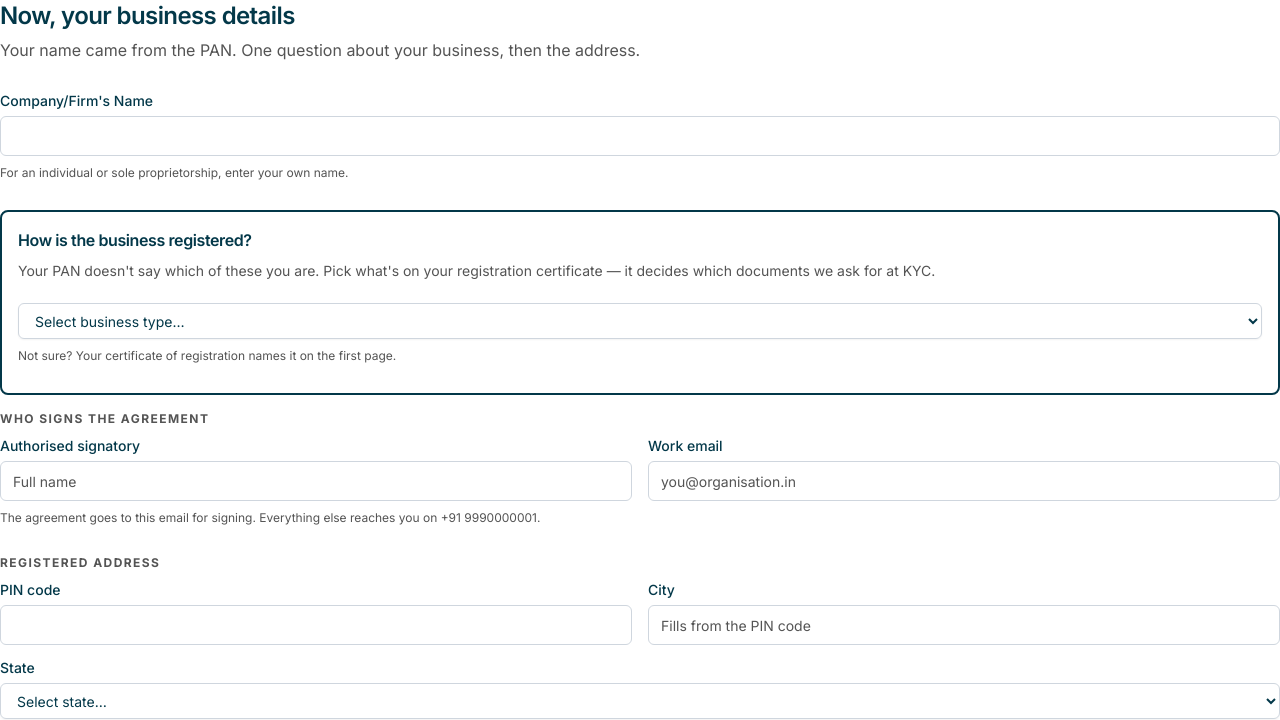
Scenario: BusinessStep › shows a field error on blur, not while typing
Type "5600ab" into the field labelled "PIN code".
click(316, 625); type("5600ab")  # box [0,605,632,645]
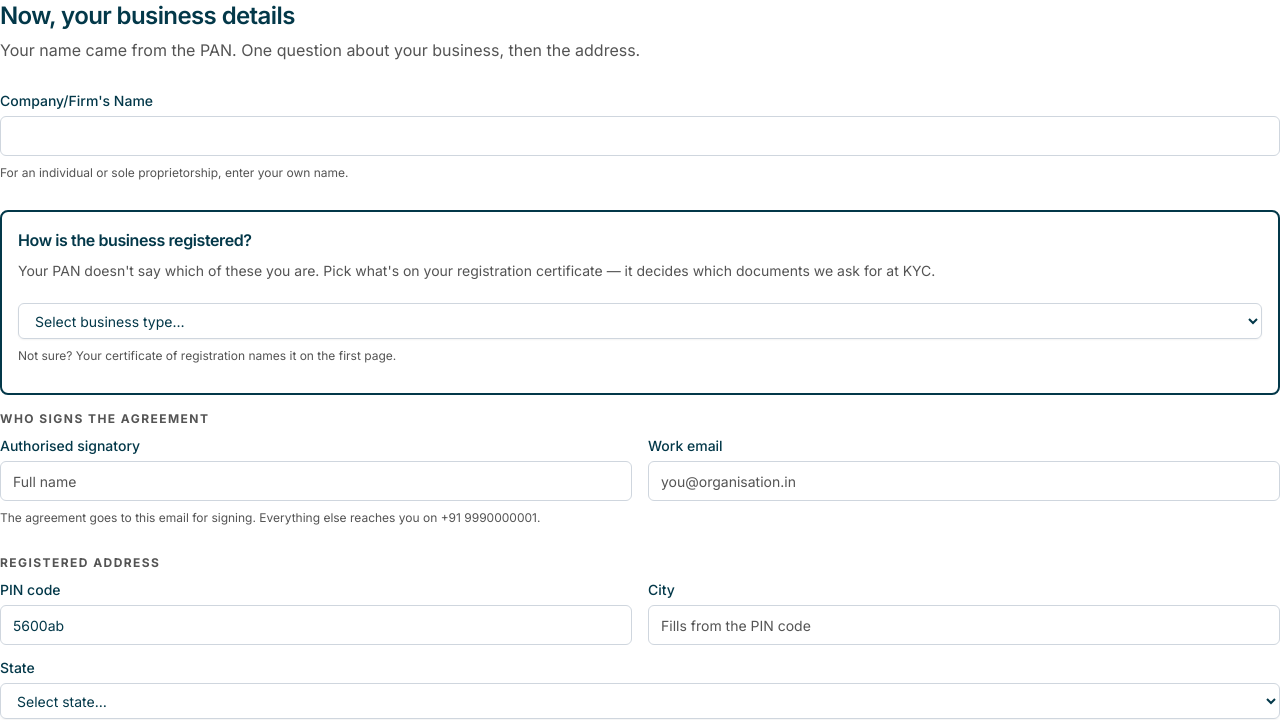
Expected: the text "valid 6-digit PIN code" is not shown
Leave the field labelled "PIN code", box [0,605,632,645]
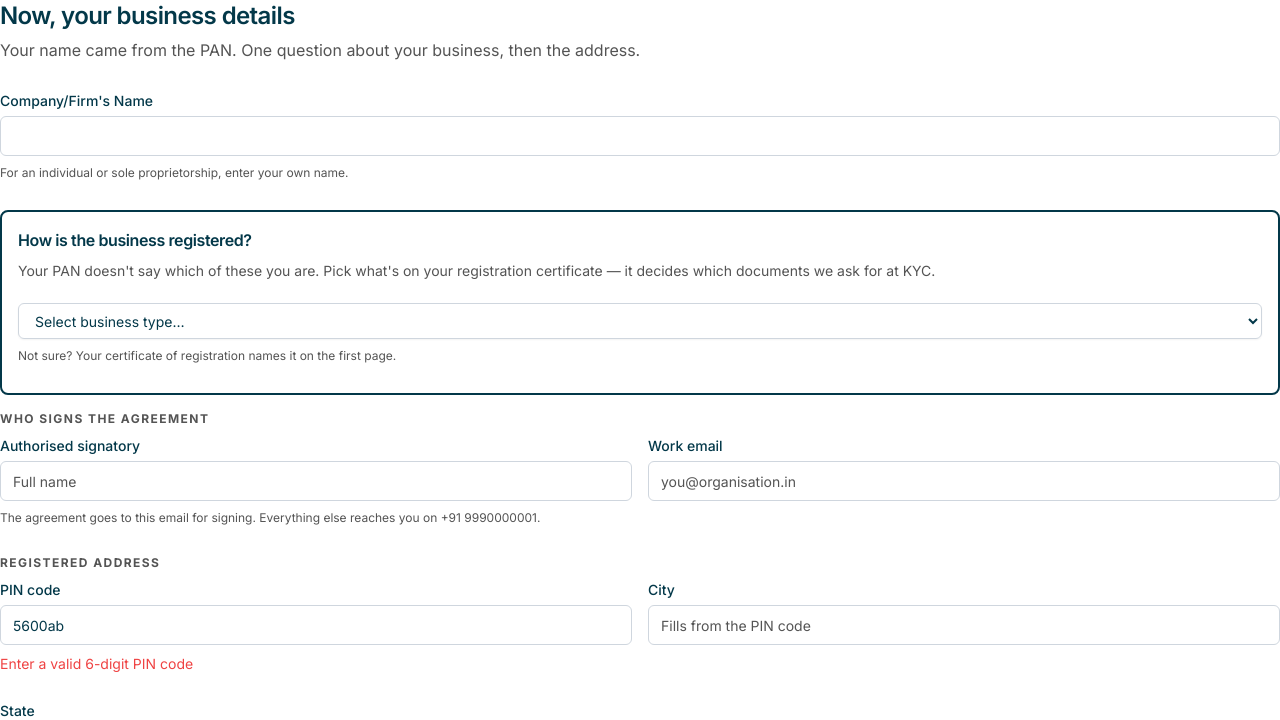
Now the text "Enter a valid 6-digit PIN code" is shown, box [0,655,193,672]
